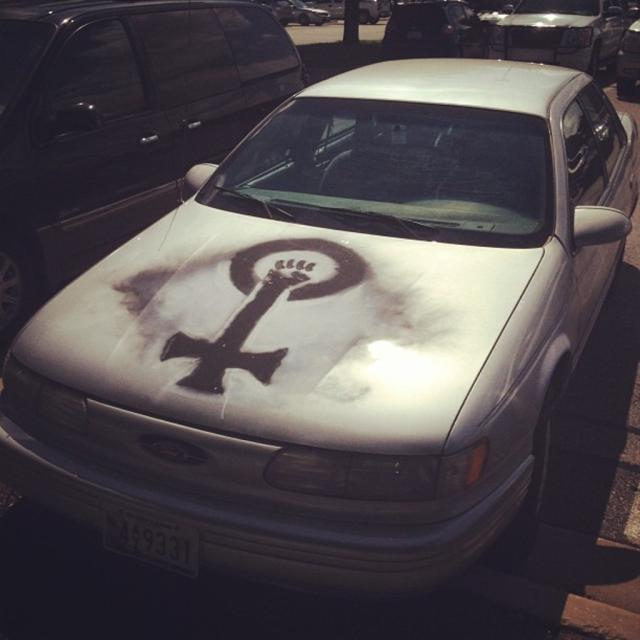car: (0, 48, 637, 609)
